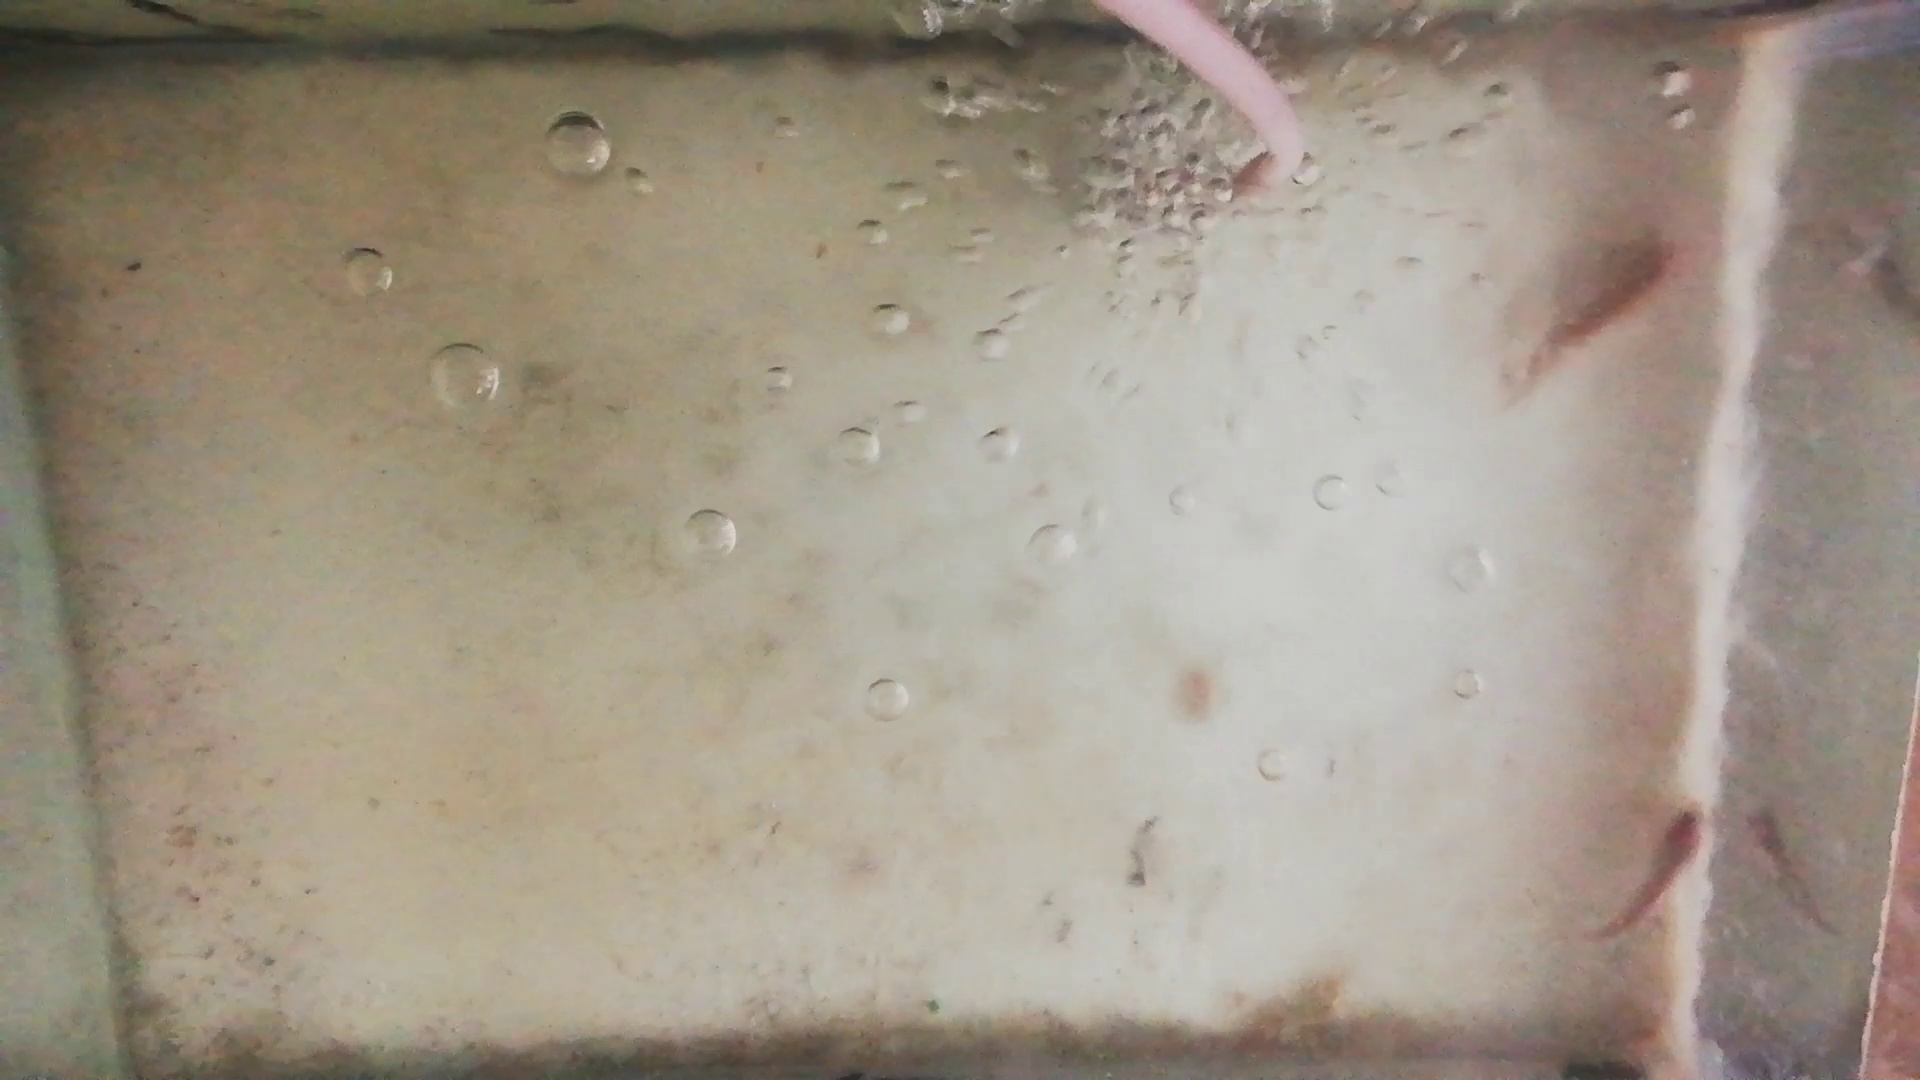fish: (1513, 241, 1680, 382), (1586, 803, 1704, 942)
